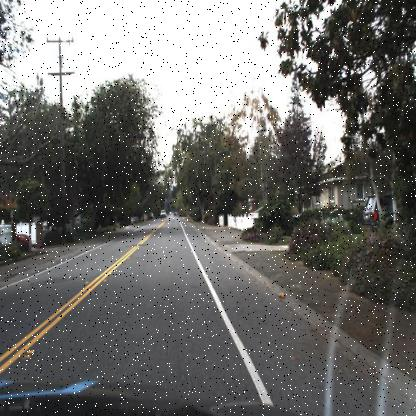car: (362, 194, 416, 236), (0, 227, 33, 249), (161, 210, 166, 219)
